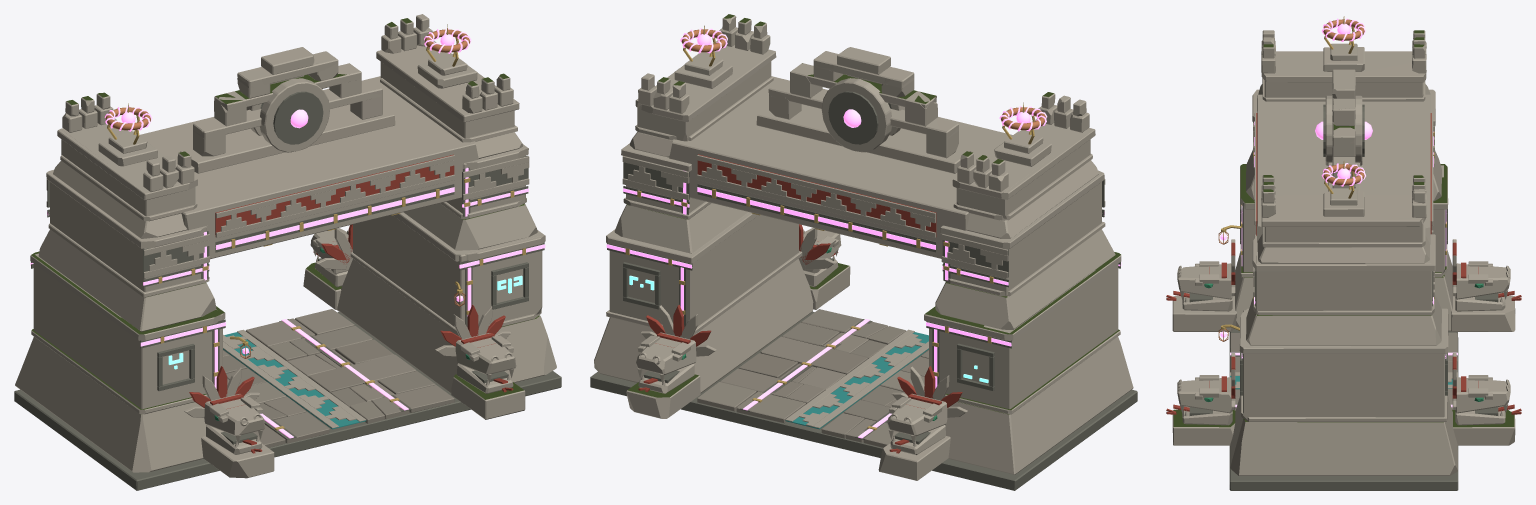
File: zr_bridge_gatehouse.glb
3 views of the same model, side by side, from view 1: azimuth 30°, elevation 25°; view 2: azimuth 150°, elevation 25°; view 3: azimuth 270°, elevation 25° (orthographic). The views are drawn at different scales.
Parts seen in each view (by area): view 1: zr_bridge_gatehouse; view 2: zr_bridge_gatehouse; view 3: zr_bridge_gatehouse.
Part boxes in pixels (x1,y1,x2,y2): zr_bridge_gatehouse: (14, 14, 561, 490); zr_bridge_gatehouse: (590, 14, 1137, 490); zr_bridge_gatehouse: (1166, 16, 1521, 490).
Size of what is drawn, in the model's own units: 20.01 by 15.22 by 15.58.
